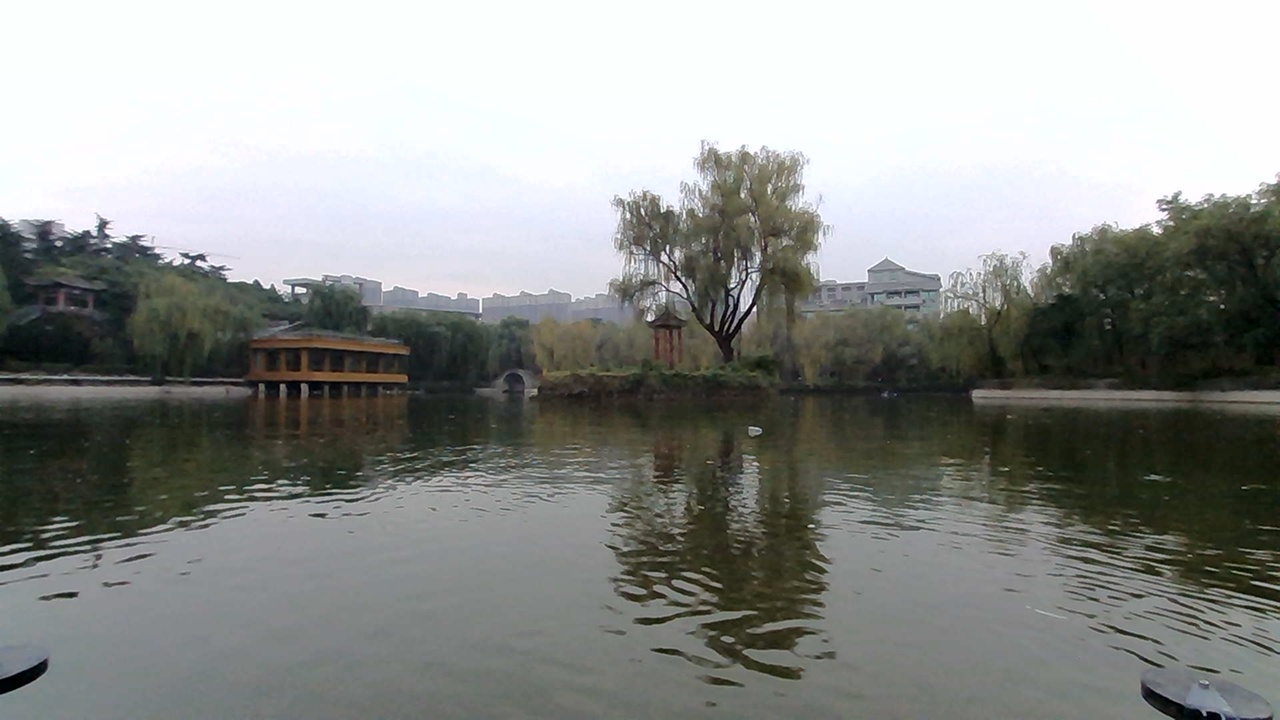bottle: (739, 410, 794, 442)
